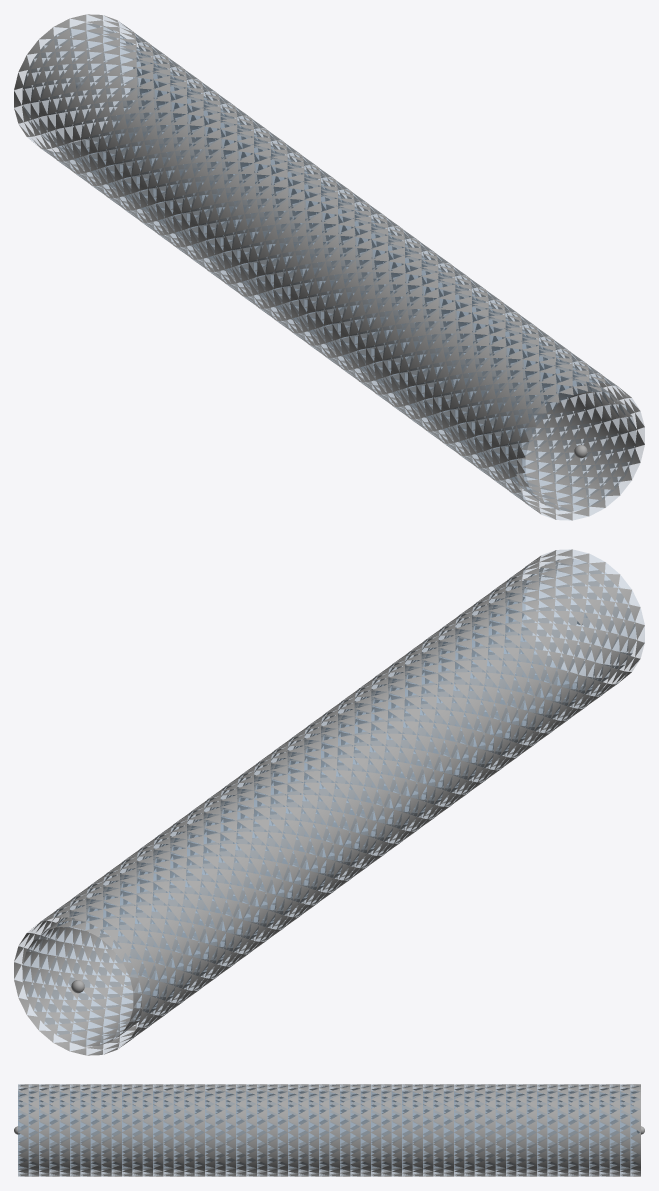
File: s_straight.fbx
3 views of the same model, one above another, from view 1: azimuth 30°, elevation 25°; view 2: azimuth 150°, elevation 25°; view 3: azimuth 270°, elevation 25° (orthographic). The views are drawn at different scales.
Visible parts, largest first — view 1: pPipe3; view 2: pPipe3; view 3: pPipe3.
Part boxes in pixels (x1,y1,x2,y2): pPipe3: [14, 14, 644, 520]; pPipe3: [14, 549, 644, 1055]; pPipe3: [18, 1084, 640, 1176].
Bounding box in the file's own units: 22.25 × 22.25 × 152.
